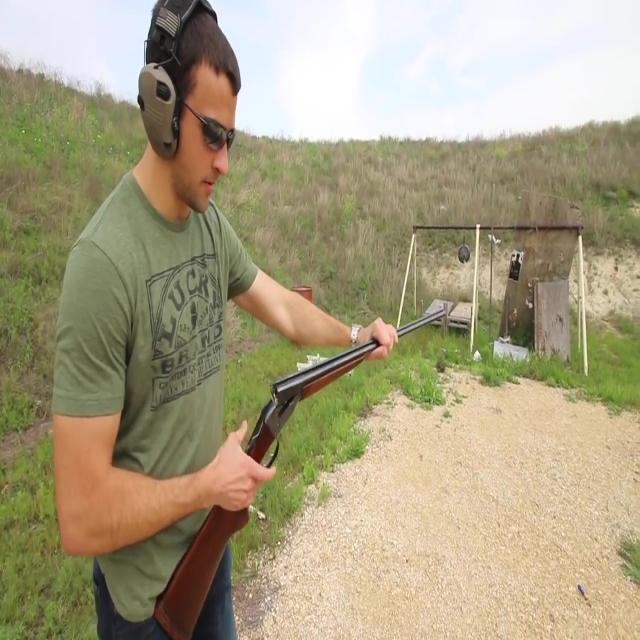Weapon: (147, 281, 463, 638)
